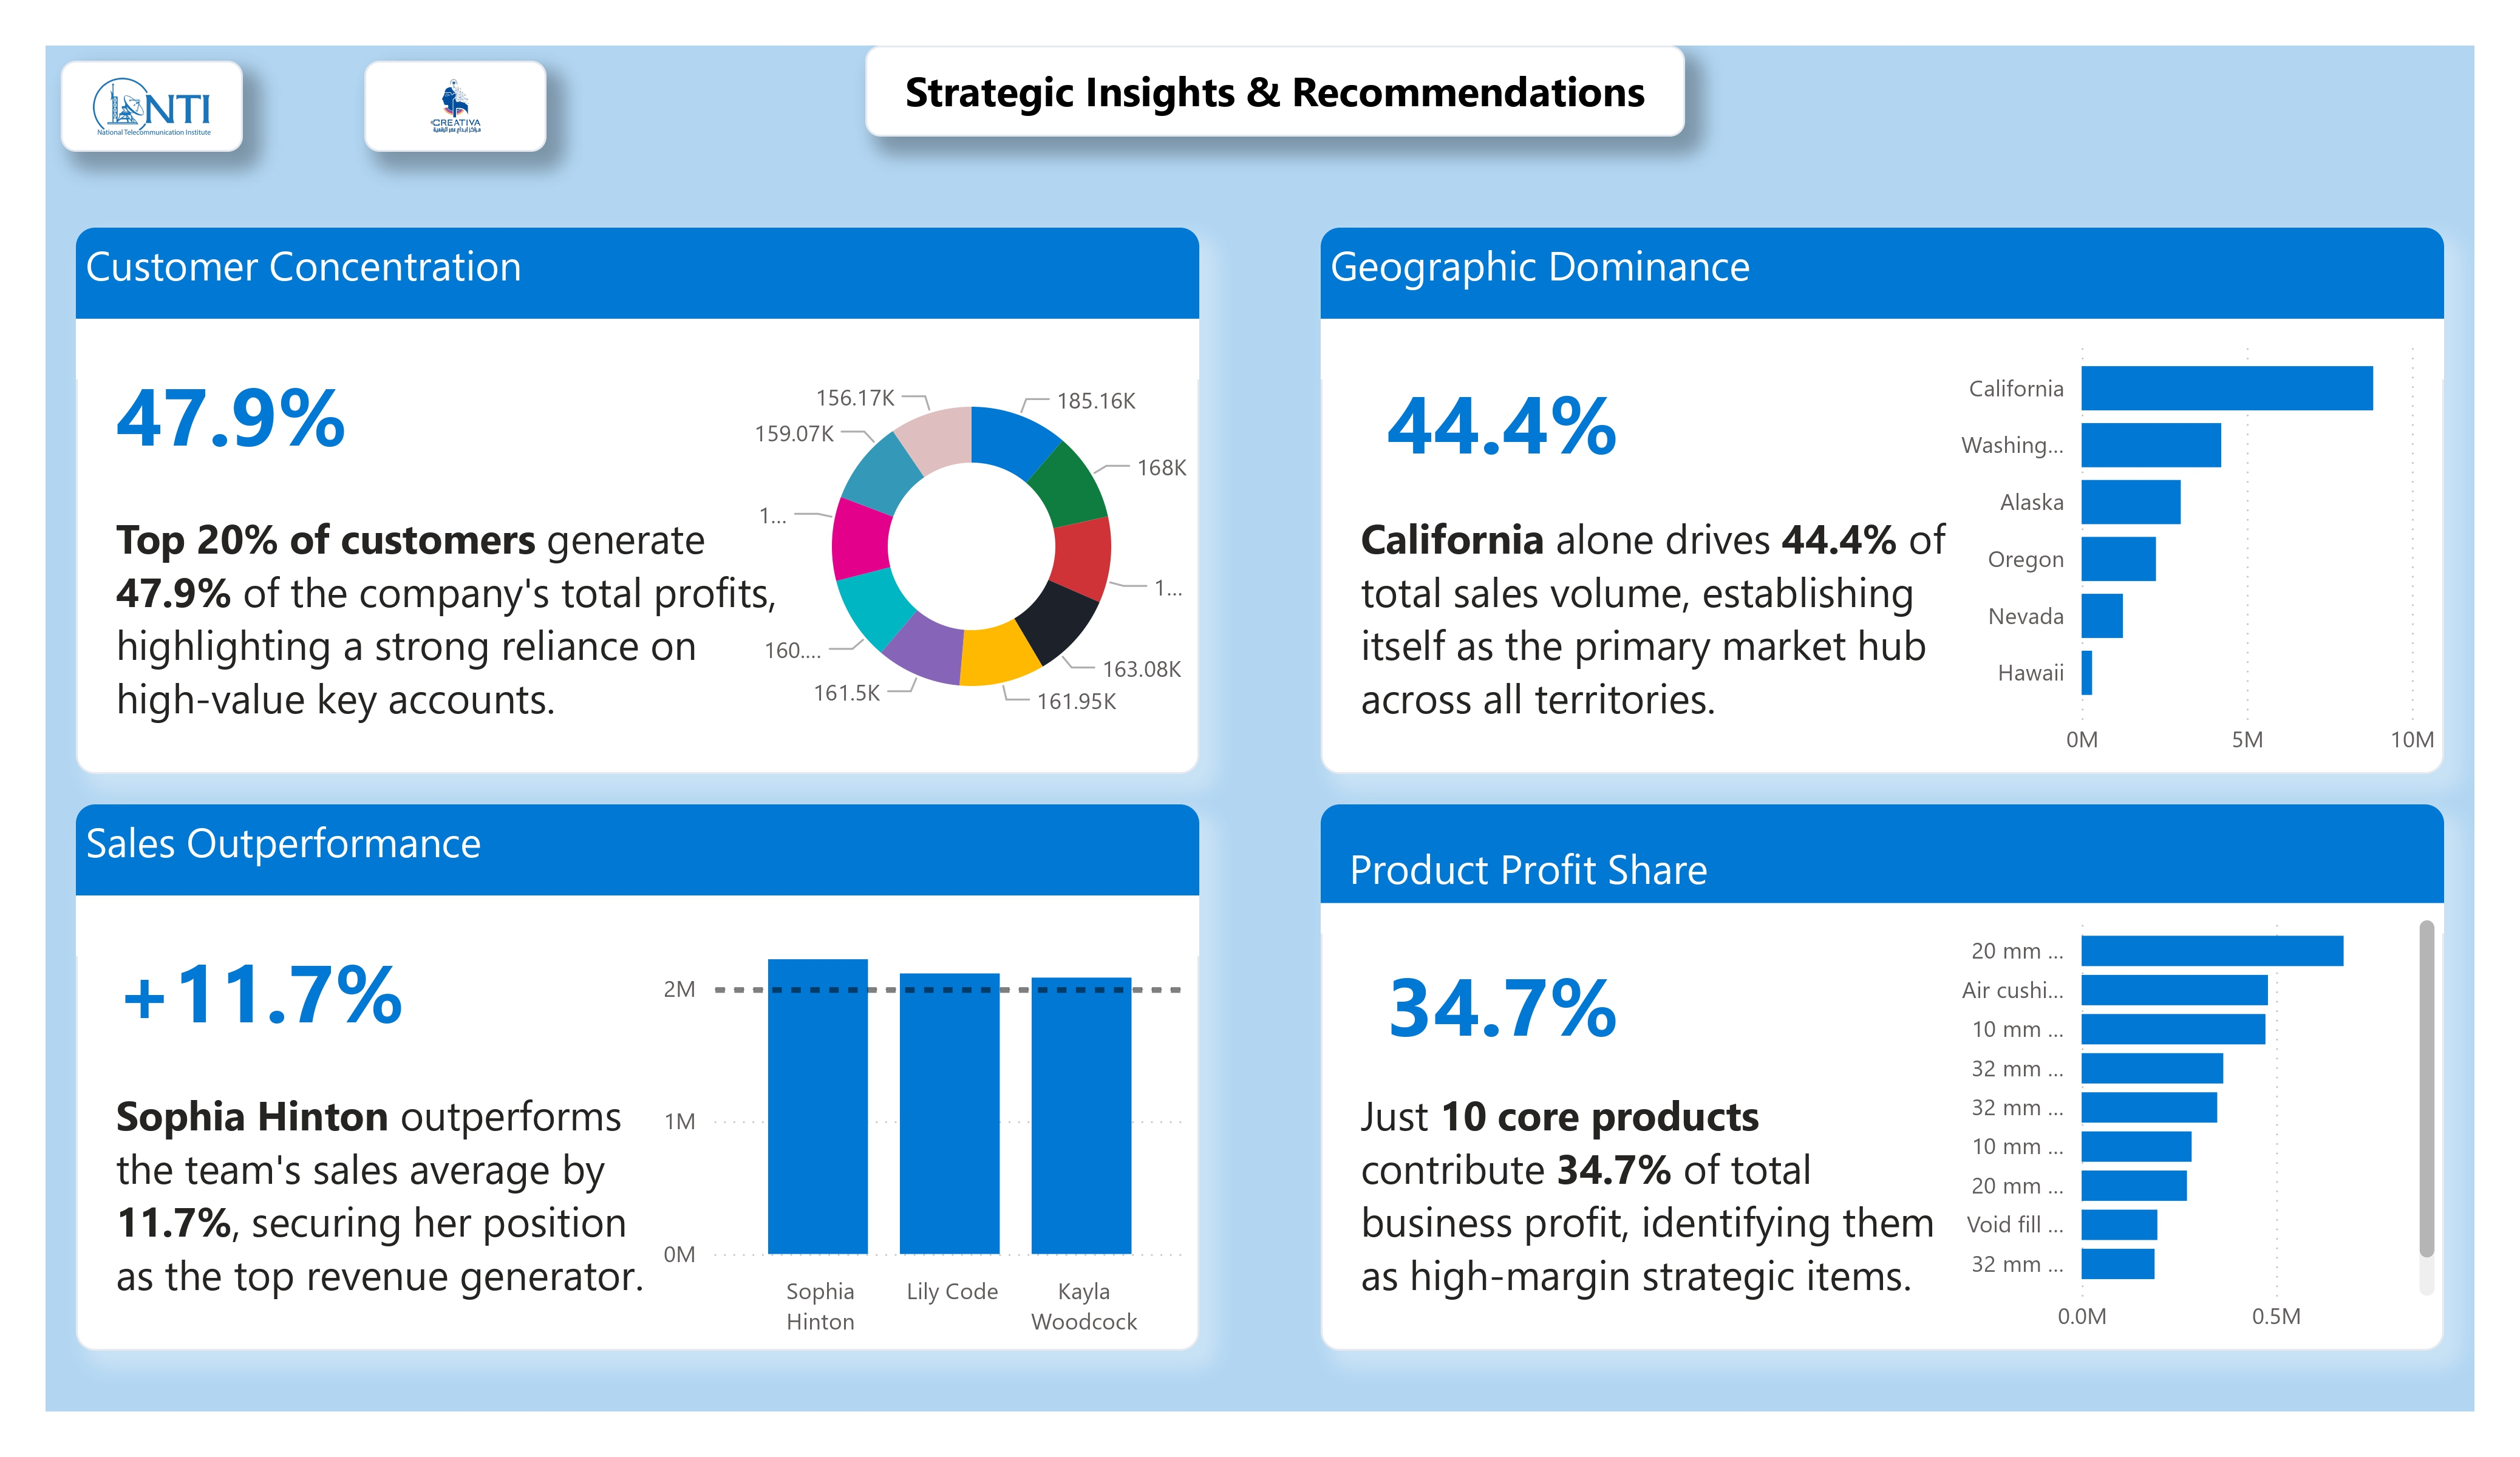

The page's visual inventory and layout, read from the dashboard file:
{"tool":"powerbi","page":{"name":"Strategic Insights & Recommendations","canvas":[1280,720],"ordinal":3},"visuals":[{"type":"textbox","box":[432,0,432,48],"z":0},{"type":"image","box":[8,8,96,48],"z":1000},{"type":"image","box":[168,8,96,48],"z":2000},{"type":"shape","box":[16,96,592,288],"z":3000},{"type":"shape","box":[16,96,592,64],"z":4000},{"type":"textbox","box":[16,96,256,48],"z":5000},{"type":"textbox","box":[32,160,144,80],"z":6000},{"type":"textbox","box":[32,240,368,128],"z":7000},{"type":"shape","box":[16,144,592,32],"z":8000},{"type":"shape","box":[672,96,592,288],"z":9000},{"type":"shape","box":[672,96,592,64],"z":10000},{"type":"textbox","box":[672,96,256,48],"z":11000},{"type":"textbox","box":[702,163.7,144,80],"z":12000},{"type":"textbox","box":[688,240,336,144],"z":13000},{"type":"shape","box":[672,144,592,32],"z":14000},{"type":"donutChart","fields":{"Category":["DimCustomer.Customer"],"Y":["Sum(FactSale.Profit)"]},"box":[368,144,240,240],"z":15000},{"type":"barChart","fields":{"Category":["DimCity.State Province Hierarchy.State Province","DimCity.State Province Hierarchy.City"],"Y":["Core Sales & Profit.Total Sales"]},"box":[992,144,272,240],"z":16000},{"type":"shape","box":[16,400,592,288],"z":17000},{"type":"shape","box":[16,400,592,64],"z":18000},{"type":"textbox","box":[16,400,272,48],"z":19000},{"type":"textbox","box":[32,464,176,80],"z":20000},{"type":"textbox","box":[32,544,304,128],"z":21000},{"type":"shape","box":[16,448,592,32],"z":22000},{"type":"clusteredColumnChart","fields":{"Category":["DimEmployee.Employee"],"Y":["Core Sales & Profit.Total Sales"]},"box":[320,448,288,240],"z":23000},{"type":"shape","box":[672,400,592,288],"z":24000},{"type":"shape","box":[672,400,592,64],"z":25000},{"type":"textbox","box":[682,413.7,256,48],"z":26000},{"type":"textbox","box":[702,471.5,144,80],"z":27000},{"type":"textbox","box":[688,544,320,128],"z":28000},{"type":"shape","box":[672,451.7,592,16],"z":29000},{"type":"barChart","fields":{"Y":["Core Sales & Profit.Total Profit"],"Category":["DimStockItem.Stock Item"]},"box":[992,448,272,240],"z":30000}]}

Visuals, with their boxes on the page's 1280x720 design canvas (x1, y1, x2, y2). These are canvas units, not pixel positions in the 2520x1457 screenshot, which may show the page scaled, cropped or inside an application window:
textbox: 432:0:864:48
image: 8:8:104:56
image: 168:8:264:56
shape: 16:96:608:384
shape: 16:96:608:160
textbox: 16:96:272:144
textbox: 32:160:176:240
textbox: 32:240:400:368
shape: 16:144:608:176
shape: 672:96:1264:384
shape: 672:96:1264:160
textbox: 672:96:928:144
textbox: 702:164:846:244
textbox: 688:240:1024:384
shape: 672:144:1264:176
donutChart - DimCustomer.Customer x Sum(FactSale.Profit): 368:144:608:384
barChart - DimCity.State Province Hierarchy.State Province x DimCity.State Province Hierarchy.City: 992:144:1264:384
shape: 16:400:608:688
shape: 16:400:608:464
textbox: 16:400:288:448
textbox: 32:464:208:544
textbox: 32:544:336:672
shape: 16:448:608:480
clusteredColumnChart - DimEmployee.Employee x Core Sales & Profit.Total Sales: 320:448:608:688
shape: 672:400:1264:688
shape: 672:400:1264:464
textbox: 682:414:938:462
textbox: 702:472:846:552
textbox: 688:544:1008:672
shape: 672:452:1264:468
barChart - Core Sales & Profit.Total Profit x DimStockItem.Stock Item: 992:448:1264:688
